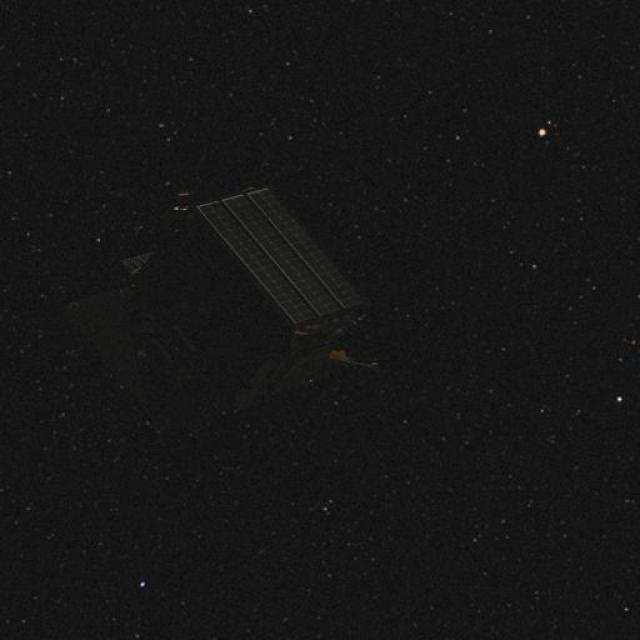proba_2: (71, 160, 384, 443)
